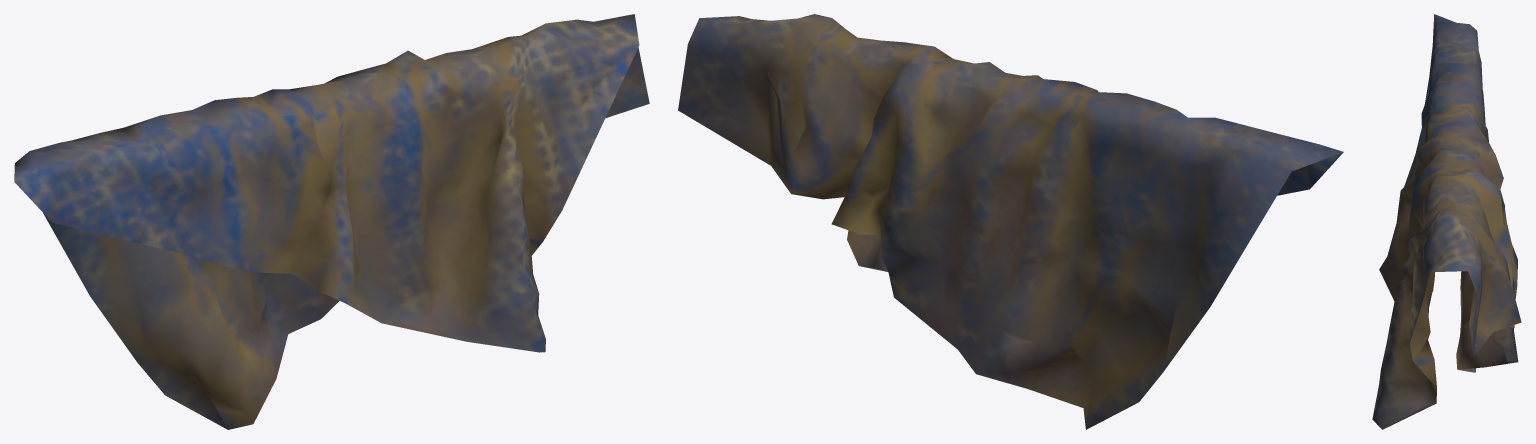
The model's file is SM_Fabric03.FBX.
3 renders of one model, left to right at view 1: azimuth 30°, elevation 25°; view 2: azimuth 150°, elevation 25°; view 3: azimuth 270°, elevation 25°, orthographic. The views are drawn at different scales.
Parts seen in each view (by area): view 1: SM_Fabric03; view 2: SM_Fabric03; view 3: SM_Fabric03.
Part boxes in pixels (x1,y1,x2,y2): SM_Fabric03: (14,14,649,429); SM_Fabric03: (678,14,1343,429); SM_Fabric03: (1372,14,1521,429).
Size of the model in its own units: 148 by 35.71 by 72.82.
